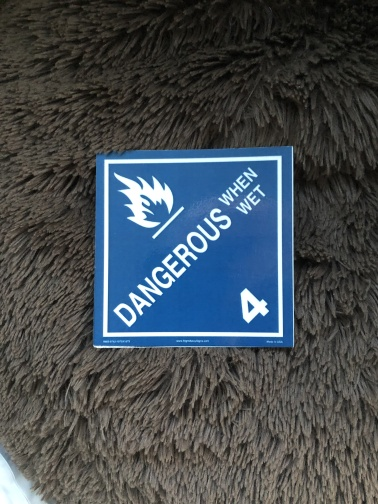DangerousWhenWet: (100, 153, 291, 338)
